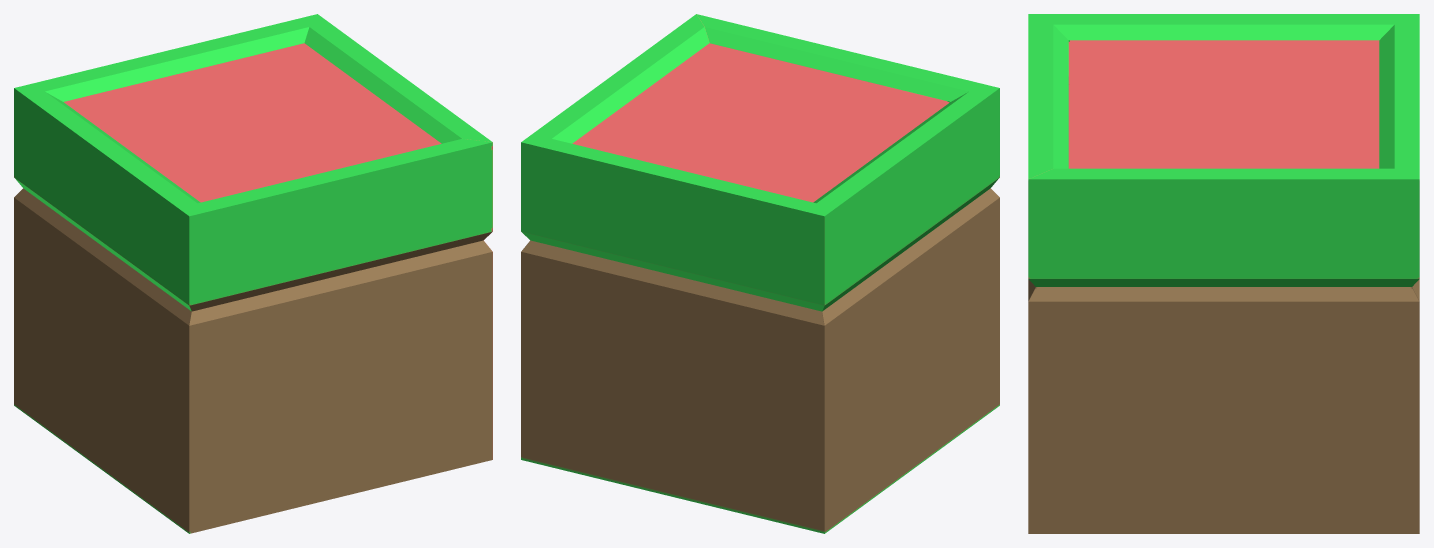
File: Tile_Path_End.fbx
3 renders of one model, left to right at view 1: azimuth 30°, elevation 25°; view 2: azimuth 150°, elevation 25°; view 3: azimuth 270°, elevation 25°, orthographic. The views are drawn at different scales.
Parts seen in each view (by area): view 1: Cube; view 2: Cube; view 3: Cube.
Part boxes in pixels (left/top/right/bottom): Cube: left=14, top=14, right=492, bottom=533; Cube: left=521, top=14, right=999, bottom=533; Cube: left=1028, top=14, right=1419, bottom=533.
Bounding box in the file's own units: 200 × 200 × 200.
